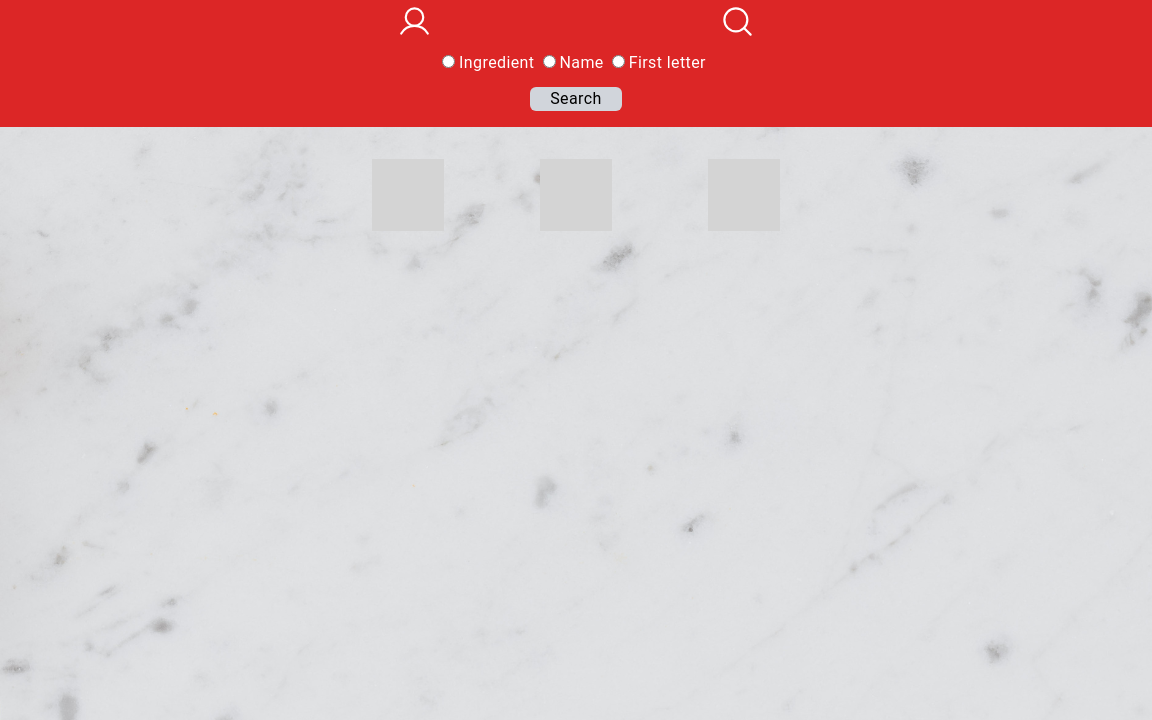
Teste o componente <Header.js /> › Testando inputs de busca
This screenshot has width=1152, height=720.
Expected: the field with placeholder "Digite Aqui" is not shown
Click the button with test id "SearchIcon".
click(738, 22)  # box [720,4,755,39]
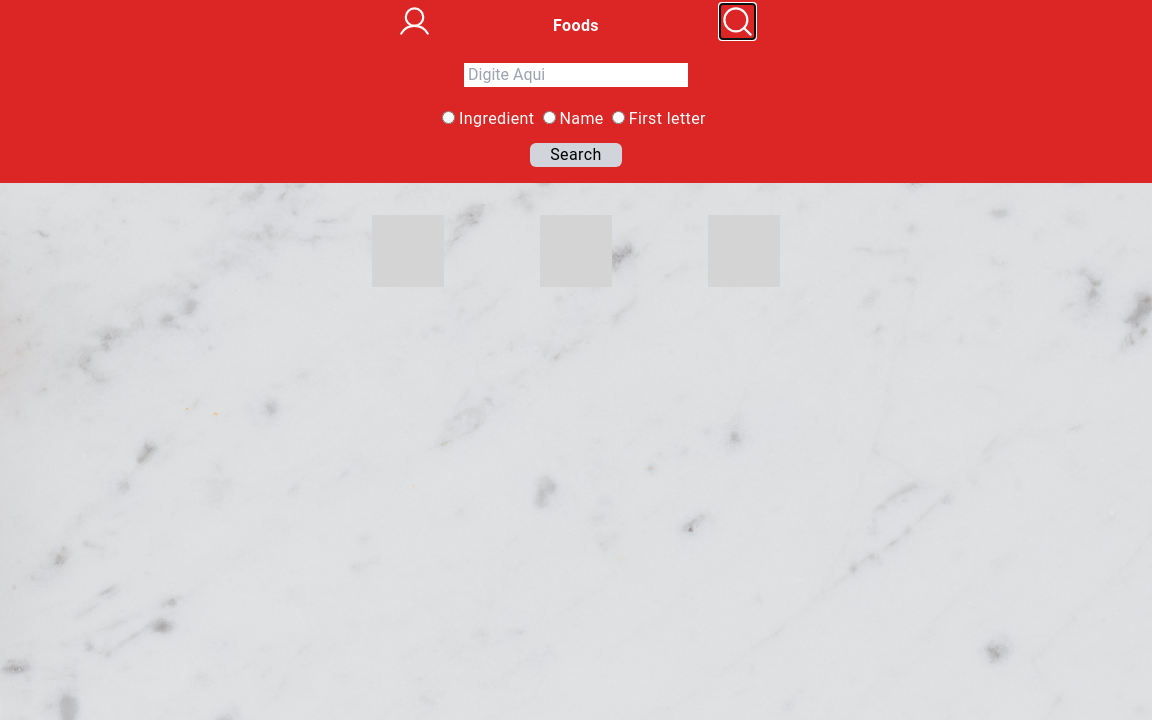
Expected: the button with test id "exec-search-btn" is shown, [530,143,622,167]
Result: the field with placeholder "Digite Aqui" is shown at [464,63,688,87]
